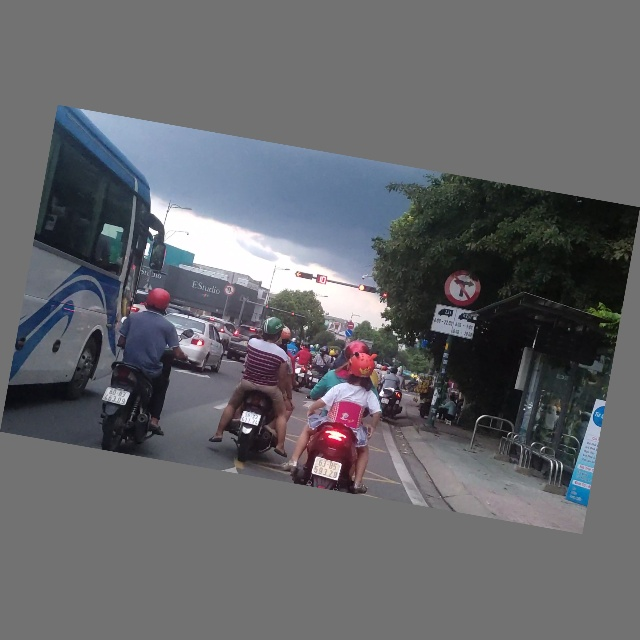P.102: (346, 322, 355, 331)
P.124a*: (222, 284, 236, 297)
P.137: (441, 268, 484, 311)
R.302a: (344, 330, 353, 339)
S.505a*Xe tai: (430, 304, 478, 340)
